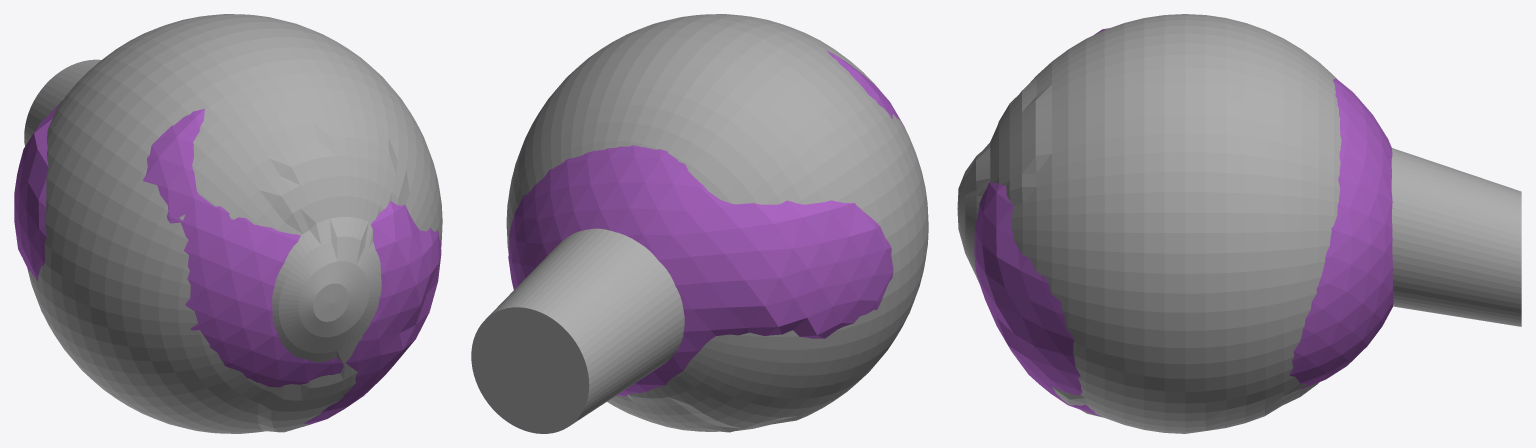
The model's file is G01_A2D_ALIGNED_GT.glb.
3 views of the same model, side by side, from view 1: azimuth 30°, elevation 25°; view 2: azimuth 150°, elevation 25°; view 3: azimuth 270°, elevation 25° (orthographic).
Visible parts, largest first — view 1: Independent_GT, A2D; view 2: Independent_GT, A2D; view 3: Independent_GT, A2D.
Part boxes in pixels (x1,y1,x2,y2): Independent_GT: (24, 14, 442, 433); A2D: (14, 100, 441, 426); Independent_GT: (471, 14, 928, 433); A2D: (508, 50, 905, 396); Independent_GT: (957, 14, 1521, 433); A2D: (974, 28, 1393, 415).
Bounding box in the file's own units: 0.012 × 0.012 × 0.0161.
